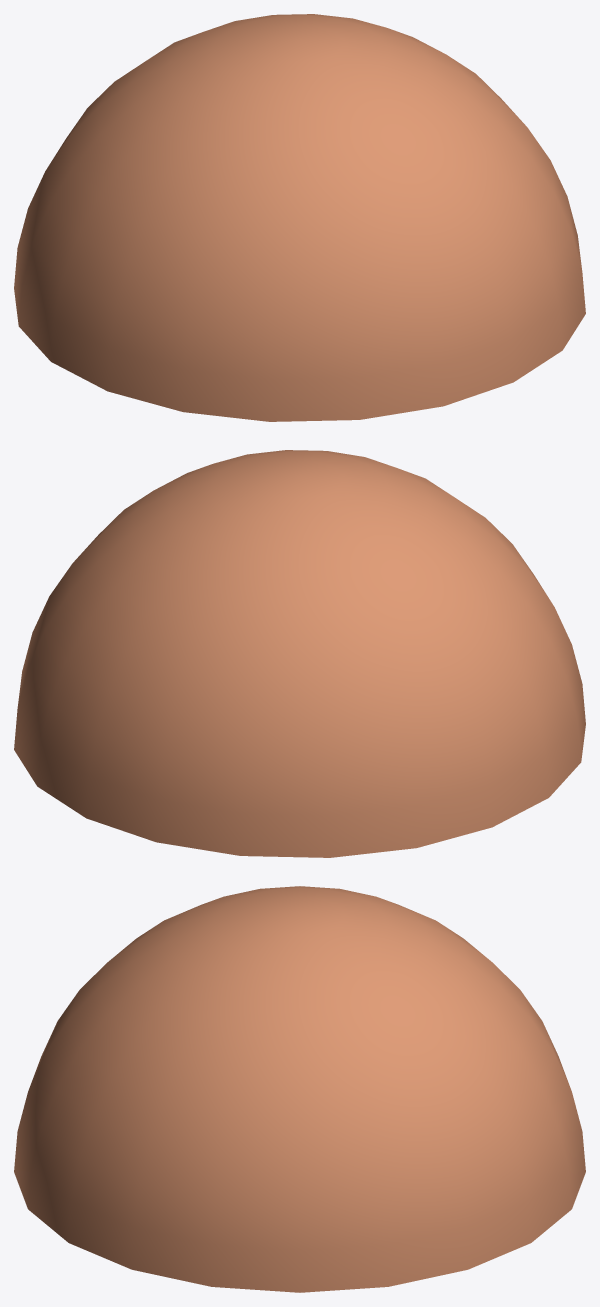
The model's file is VR_Zones_GRP.fbx.
3 views of the same model, one above another, from view 1: azimuth 30°, elevation 25°; view 2: azimuth 150°, elevation 25°; view 3: azimuth 270°, elevation 25° (orthographic).
Parts seen in each view (by area): view 1: Outer_20Sphere_GEO; view 2: Outer_20Sphere_GEO; view 3: Outer_20Sphere_GEO.
Part boxes in pixels (x1,y1,x2,y2): Outer_20Sphere_GEO: (14, 14, 585, 421); Outer_20Sphere_GEO: (14, 450, 585, 857); Outer_20Sphere_GEO: (14, 886, 585, 1292).
Bounding box in the file's own units: 40 × 20 × 40.
